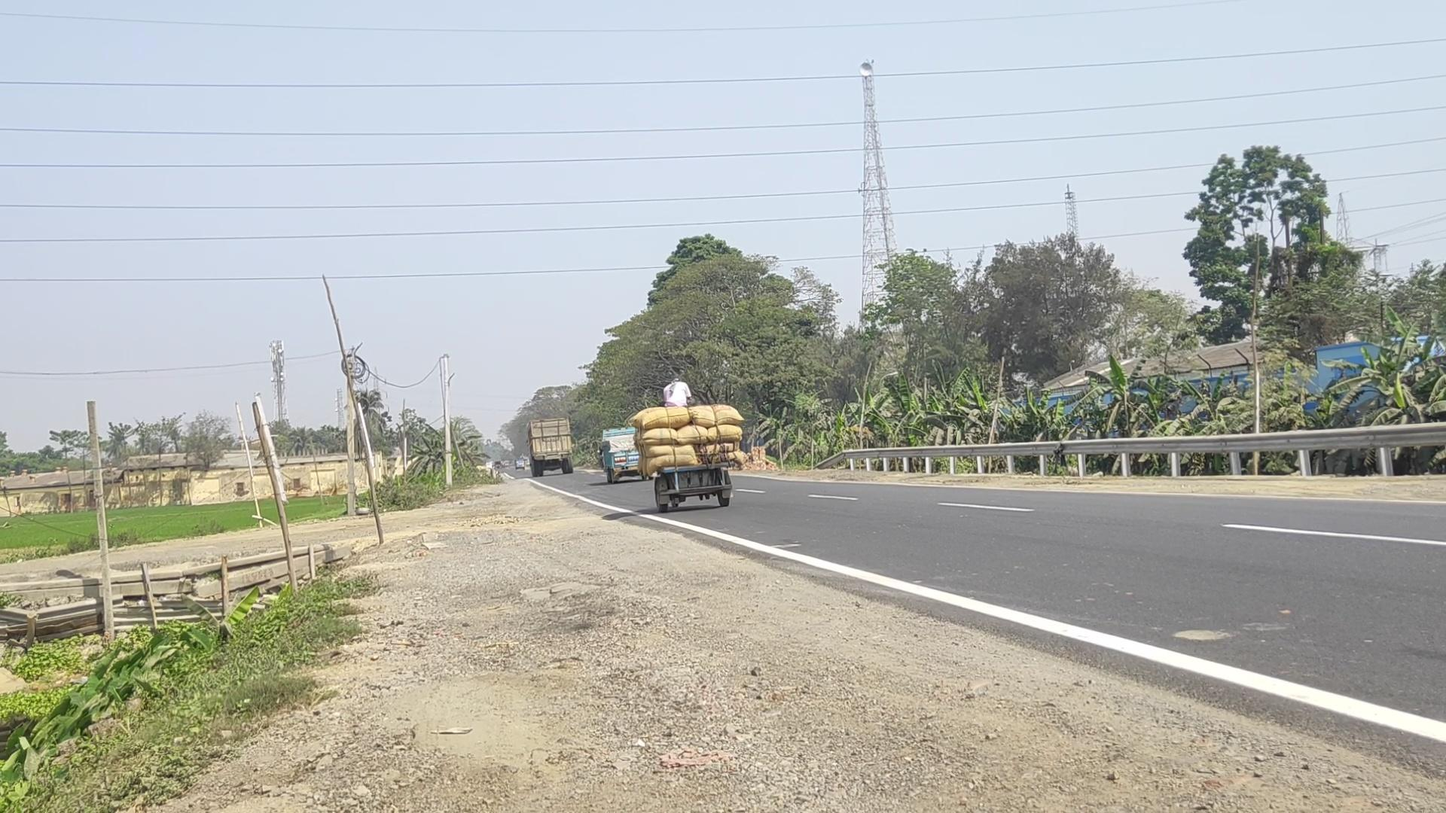truck: (526, 416, 574, 477)
van: (597, 427, 655, 484)
